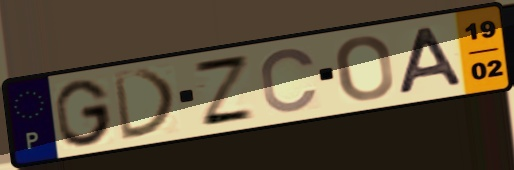A: (396, 23, 468, 97)
C: (258, 46, 322, 115)
D: (109, 66, 181, 143)
G: (52, 77, 116, 149)
O: (333, 34, 397, 104)
Z: (190, 53, 260, 129)
